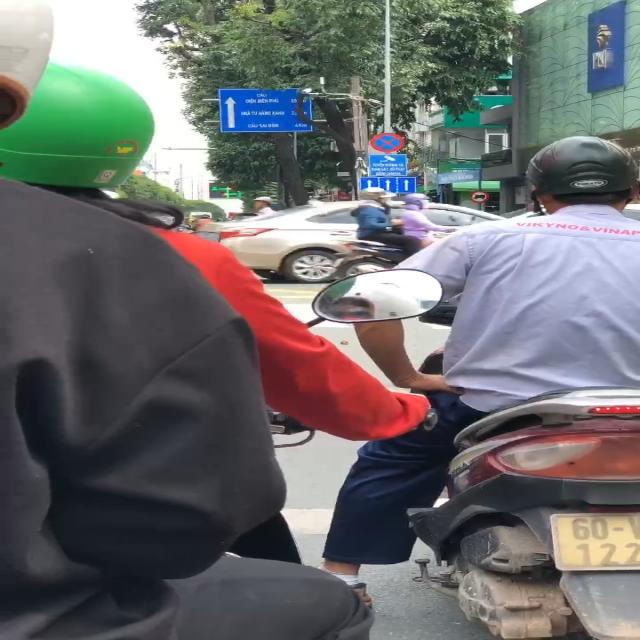Bien bao cam dung xe va do xe: (367, 130, 409, 155)
